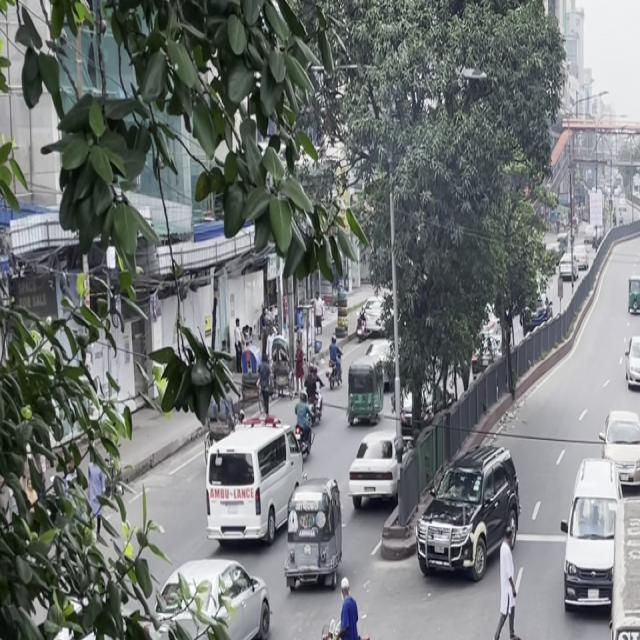bicycle: (305, 583, 396, 640)
bus: (592, 482, 640, 639)
car: (412, 438, 524, 590), (198, 416, 304, 559), (557, 454, 623, 626), (342, 417, 409, 518), (598, 401, 640, 498), (619, 328, 640, 400)
rickshaw: (278, 473, 348, 602)
